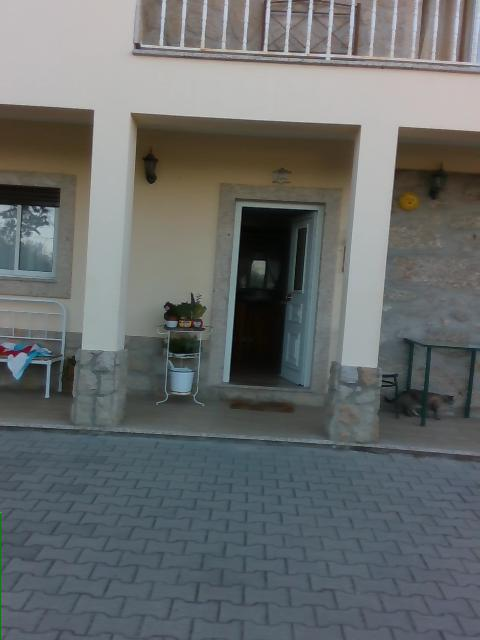open_door: (220, 197, 324, 390)
